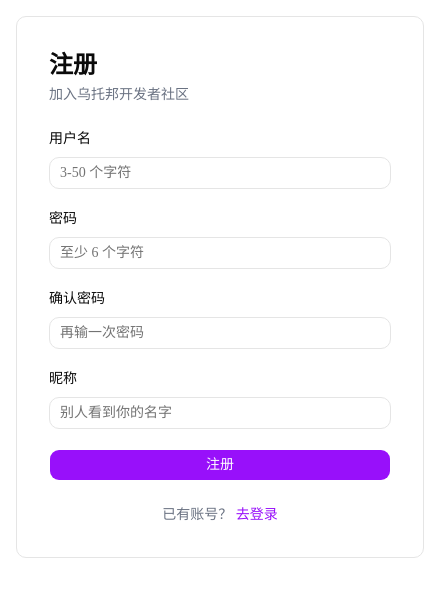
Scenario: 注册页面 › 两次密码不一致时，提示错误且不调 register
In the field with placeholder "3-50 个字符": (220, 173) 49,157 -> 391,189, type "xiaoming"
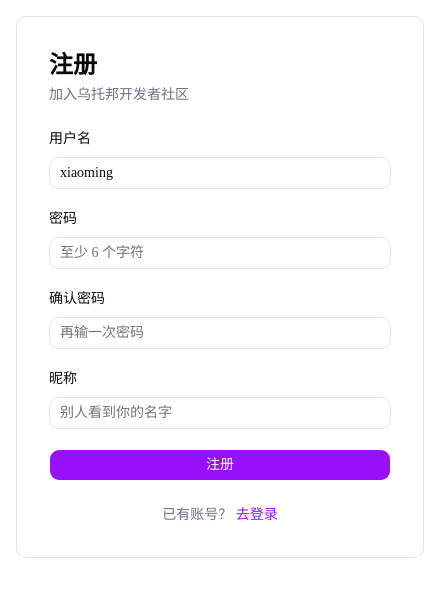
In the password field with placeholder "至少 6 个字符": (220, 253) 49,237 -> 391,269, type "123456"
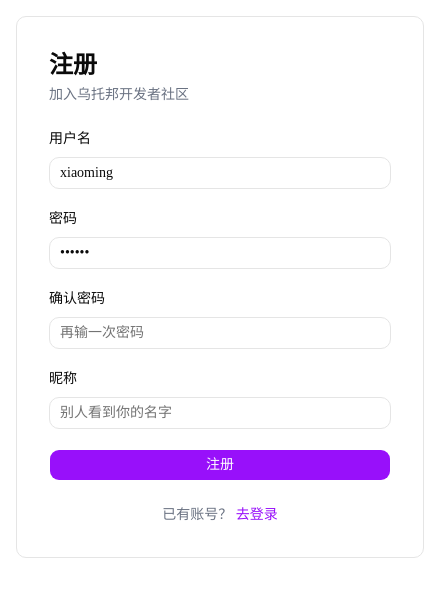
In the password field with placeholder "再输一次密码": (220, 333) 49,317 -> 391,349, type "654321"
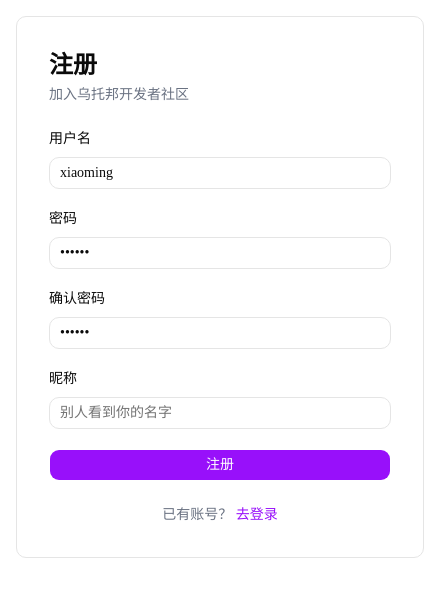
Click the button "注册": (220, 465) 49,449 -> 391,481
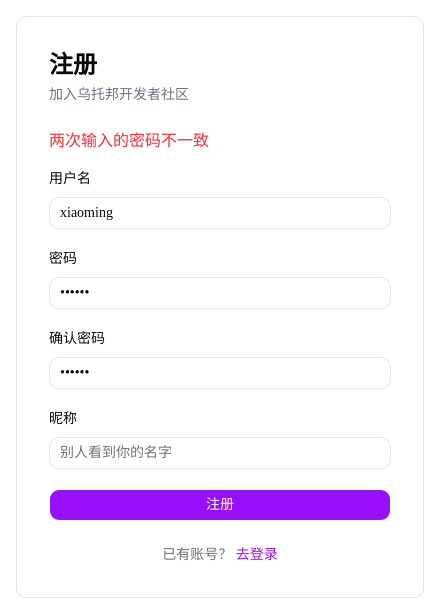
Expected: the text "两次输入的密码不一致" is shown, 49,132 -> 209,149
